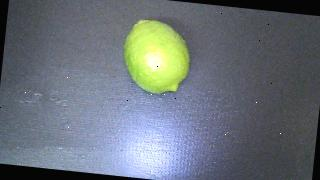EXPORTACION: (119, 18, 193, 97)
